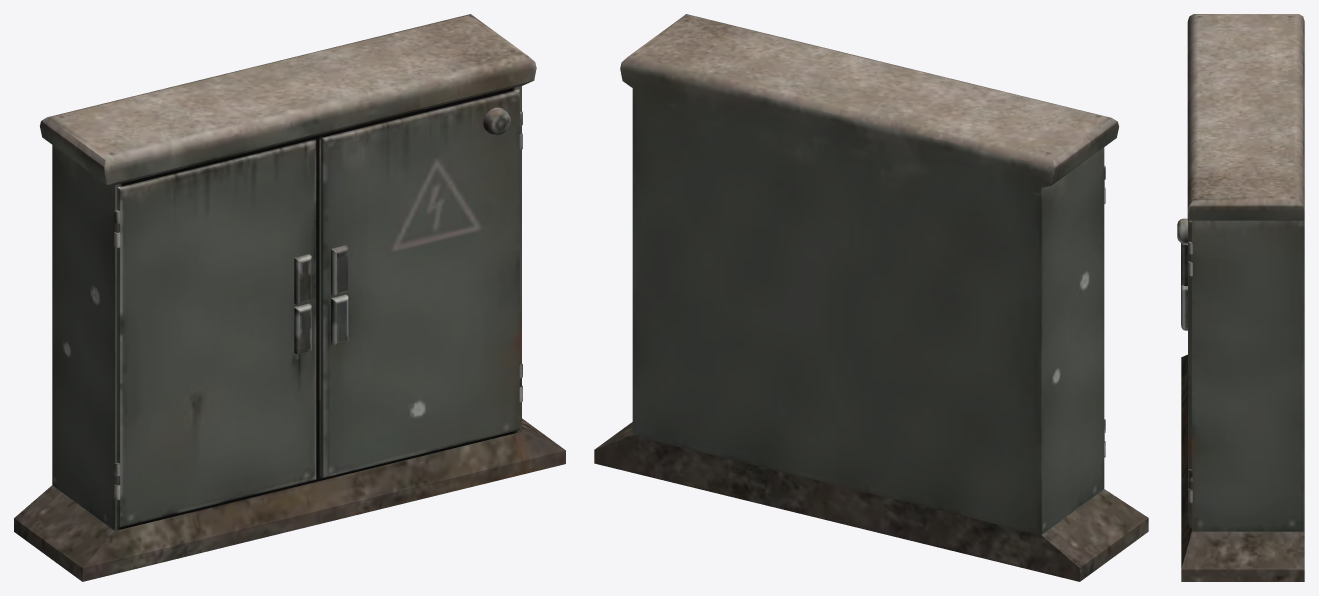
The model's file is p_cabinet.glb.
The picture shows the model from 3 angles, left to right: view 1: azimuth 30°, elevation 25°; view 2: azimuth 150°, elevation 25°; view 3: azimuth 270°, elevation 25°; orthographic projection. The views are drawn at different scales.
Visible parts, largest first — view 1: g; view 2: g; view 3: g.
Part boxes in pixels (x1=…): g: x1=14, y1=14, x2=565, y2=581; g: x1=594, y1=14, x2=1148, y2=581; g: x1=1177, y1=14, x2=1304, y2=581.
Size of the model in its own units: 2 by 1.63 by 0.5072.
1 material, 1 textured.
